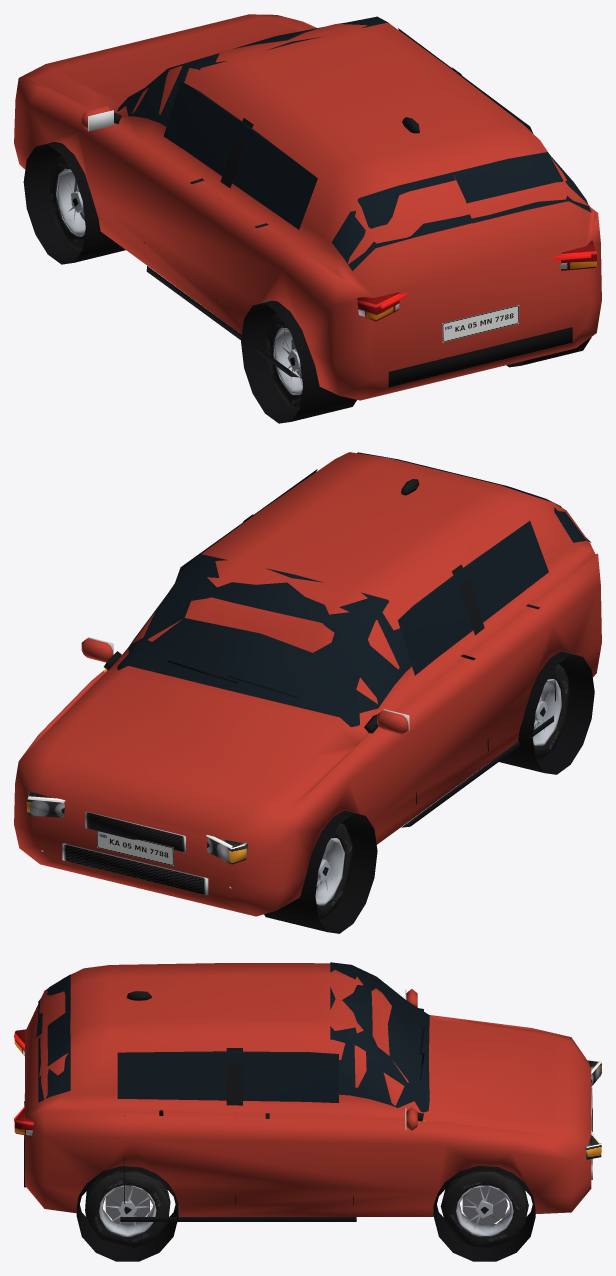
The model's file is hatch_far.glb.
3 renders of one model, top to bottom at view 1: azimuth 30°, elevation 25°; view 2: azimuth 150°, elevation 25°; view 3: azimuth 270°, elevation 25°, orthographic. The views are drawn at different scales.
Parts seen in each view (by area): view 1: hatch_CarPaint, hatch_Parts, hatch_Glass, hatch_Tyre; view 2: hatch_CarPaint, hatch_Glass, hatch_Parts, hatch_Tyre; view 3: hatch_CarPaint, hatch_Glass, hatch_Parts, hatch_Tyre.
Part boxes in pixels (bbox=[...]): hatch_CarPaint: bbox=[14, 14, 601, 400]; hatch_Parts: bbox=[23, 67, 596, 423]; hatch_Glass: bbox=[117, 16, 591, 270]; hatch_Tyre: bbox=[48, 155, 301, 410]; hatch_CarPaint: bbox=[14, 452, 601, 916]; hatch_Glass: bbox=[117, 452, 591, 726]; hatch_Parts: bbox=[26, 479, 594, 933]; hatch_Tyre: bbox=[316, 664, 569, 921]; hatch_CarPaint: bbox=[25, 963, 591, 1216]; hatch_Glass: bbox=[36, 962, 429, 1112]; hatch_Parts: bbox=[14, 989, 601, 1261]; hatch_Tyre: bbox=[85, 1171, 528, 1248].
Size of the model in its own units: 2.13 by 1.61 by 4.03.
5 materials, 3 textured.
